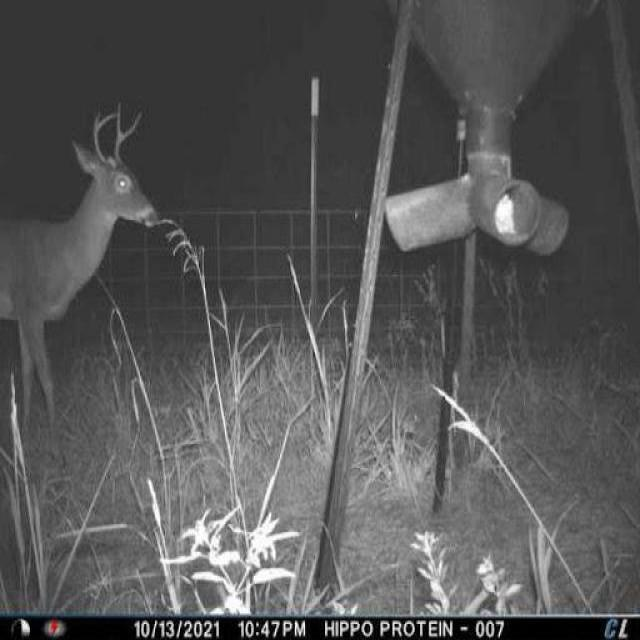deer: (0, 94, 169, 479)
